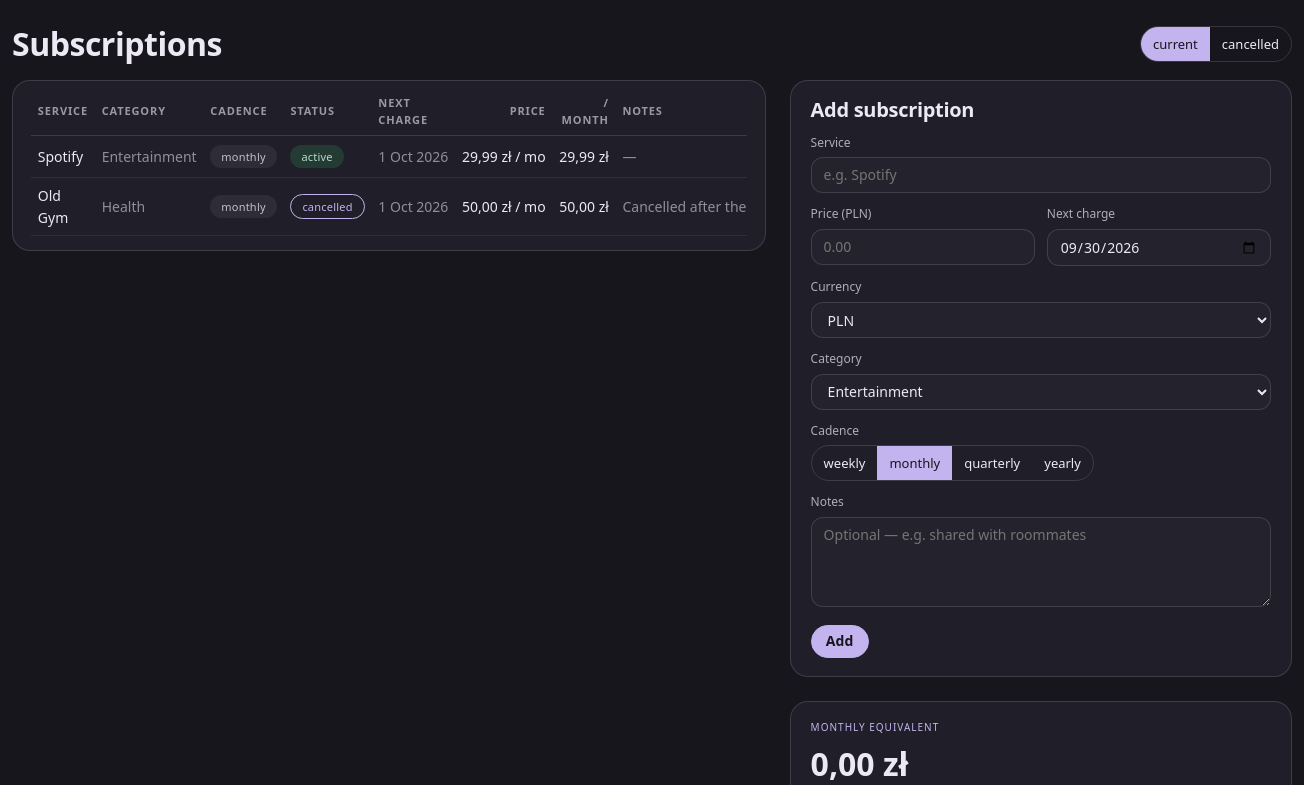
a server field message from saving the form is visible
Type "Netflix" into the field named "Service name" at (1041, 175), box [811,157,1271,193]
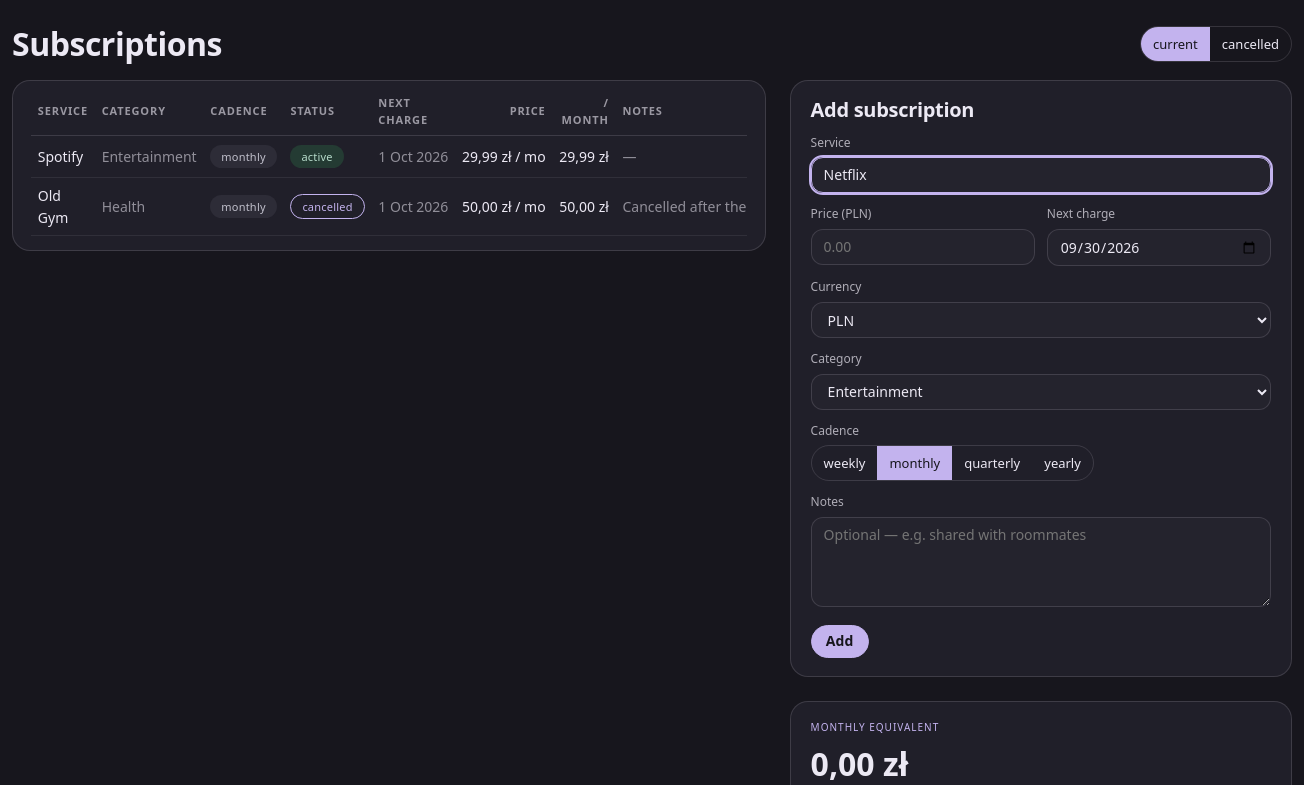
Type "9.99" into the field labelled "Price" at (923, 247), box [811,229,1035,265]
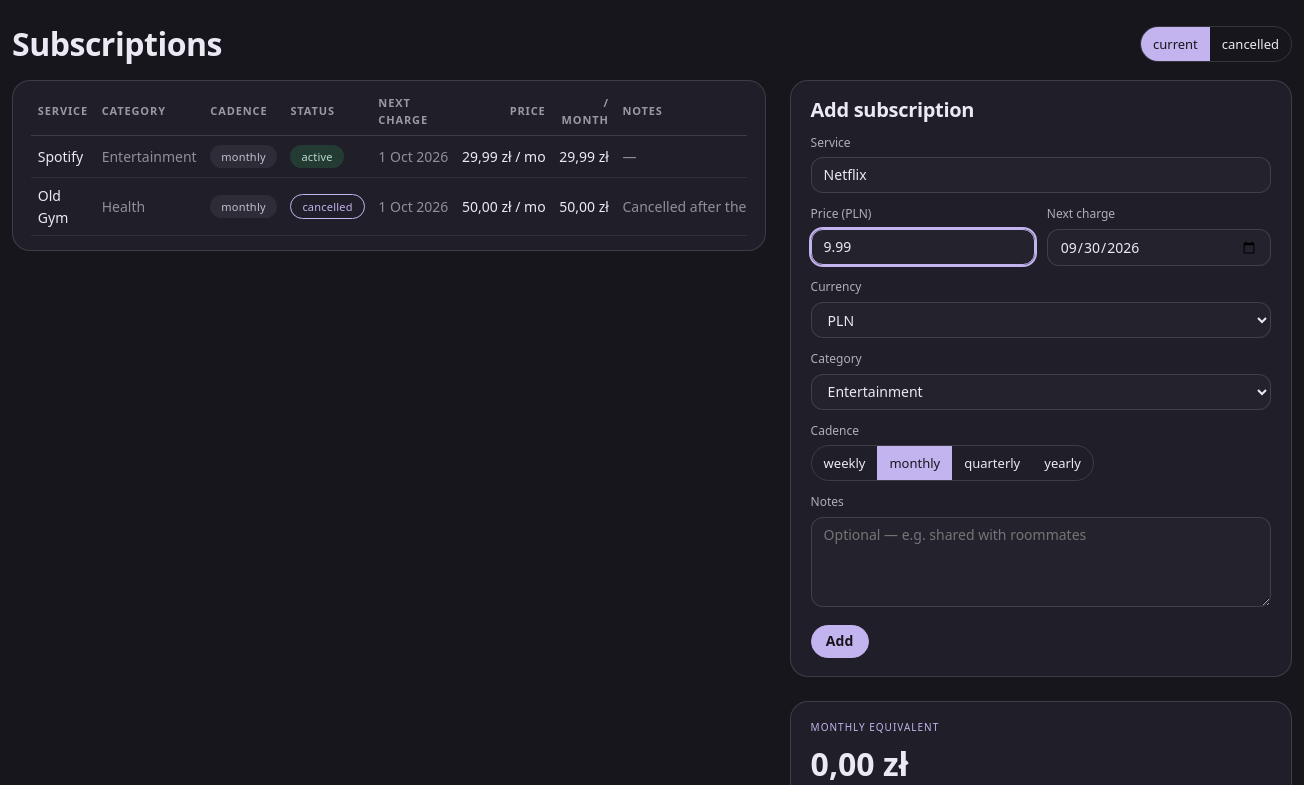
Click the button "Add" at (840, 641), box [811,625,868,658]
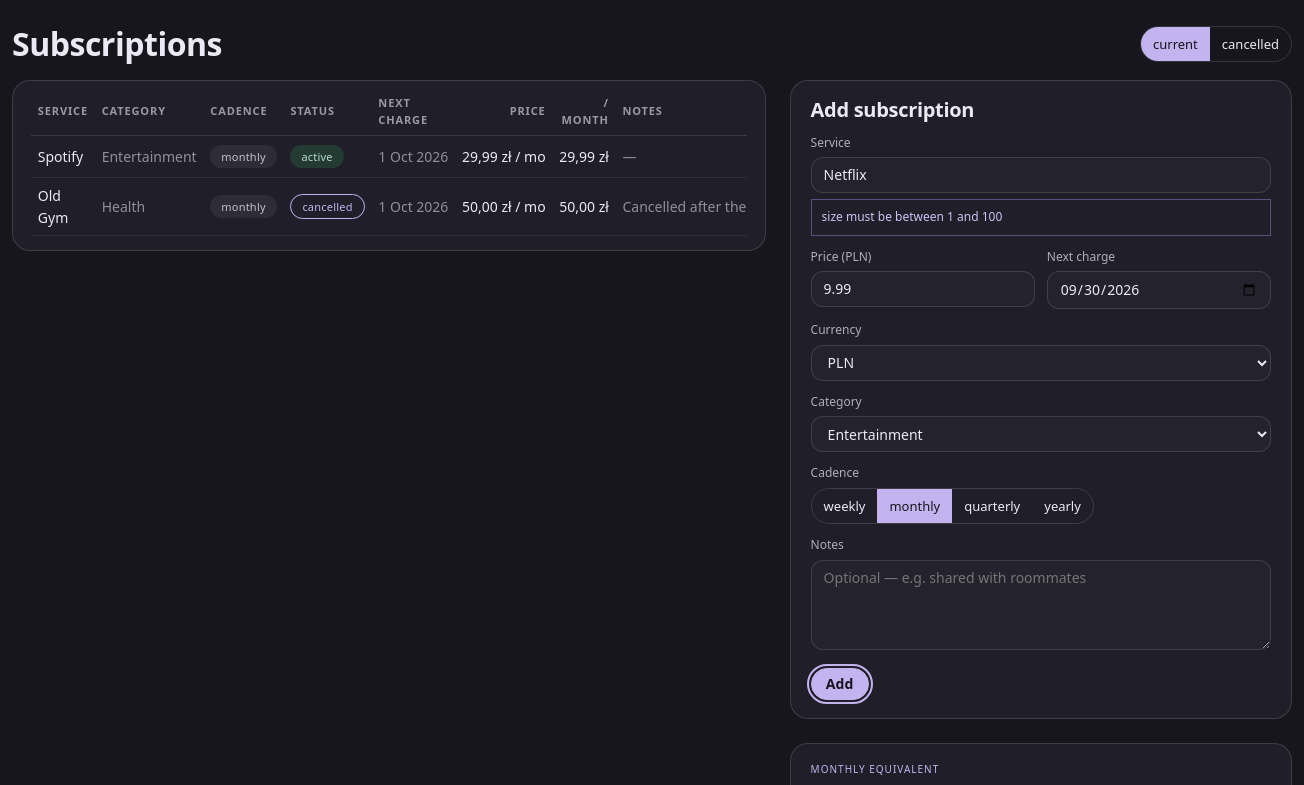
Expected: the text "size must be between 1 and 100" is shown, [811,199,1271,236]
